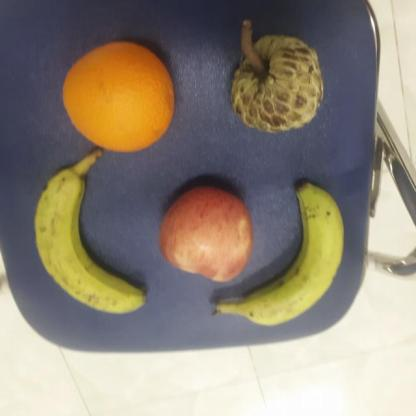annona: (230, 36, 322, 134)
apple: (158, 185, 253, 284)
banana: (211, 179, 344, 327), (35, 154, 146, 316)
orange: (60, 42, 175, 154)
